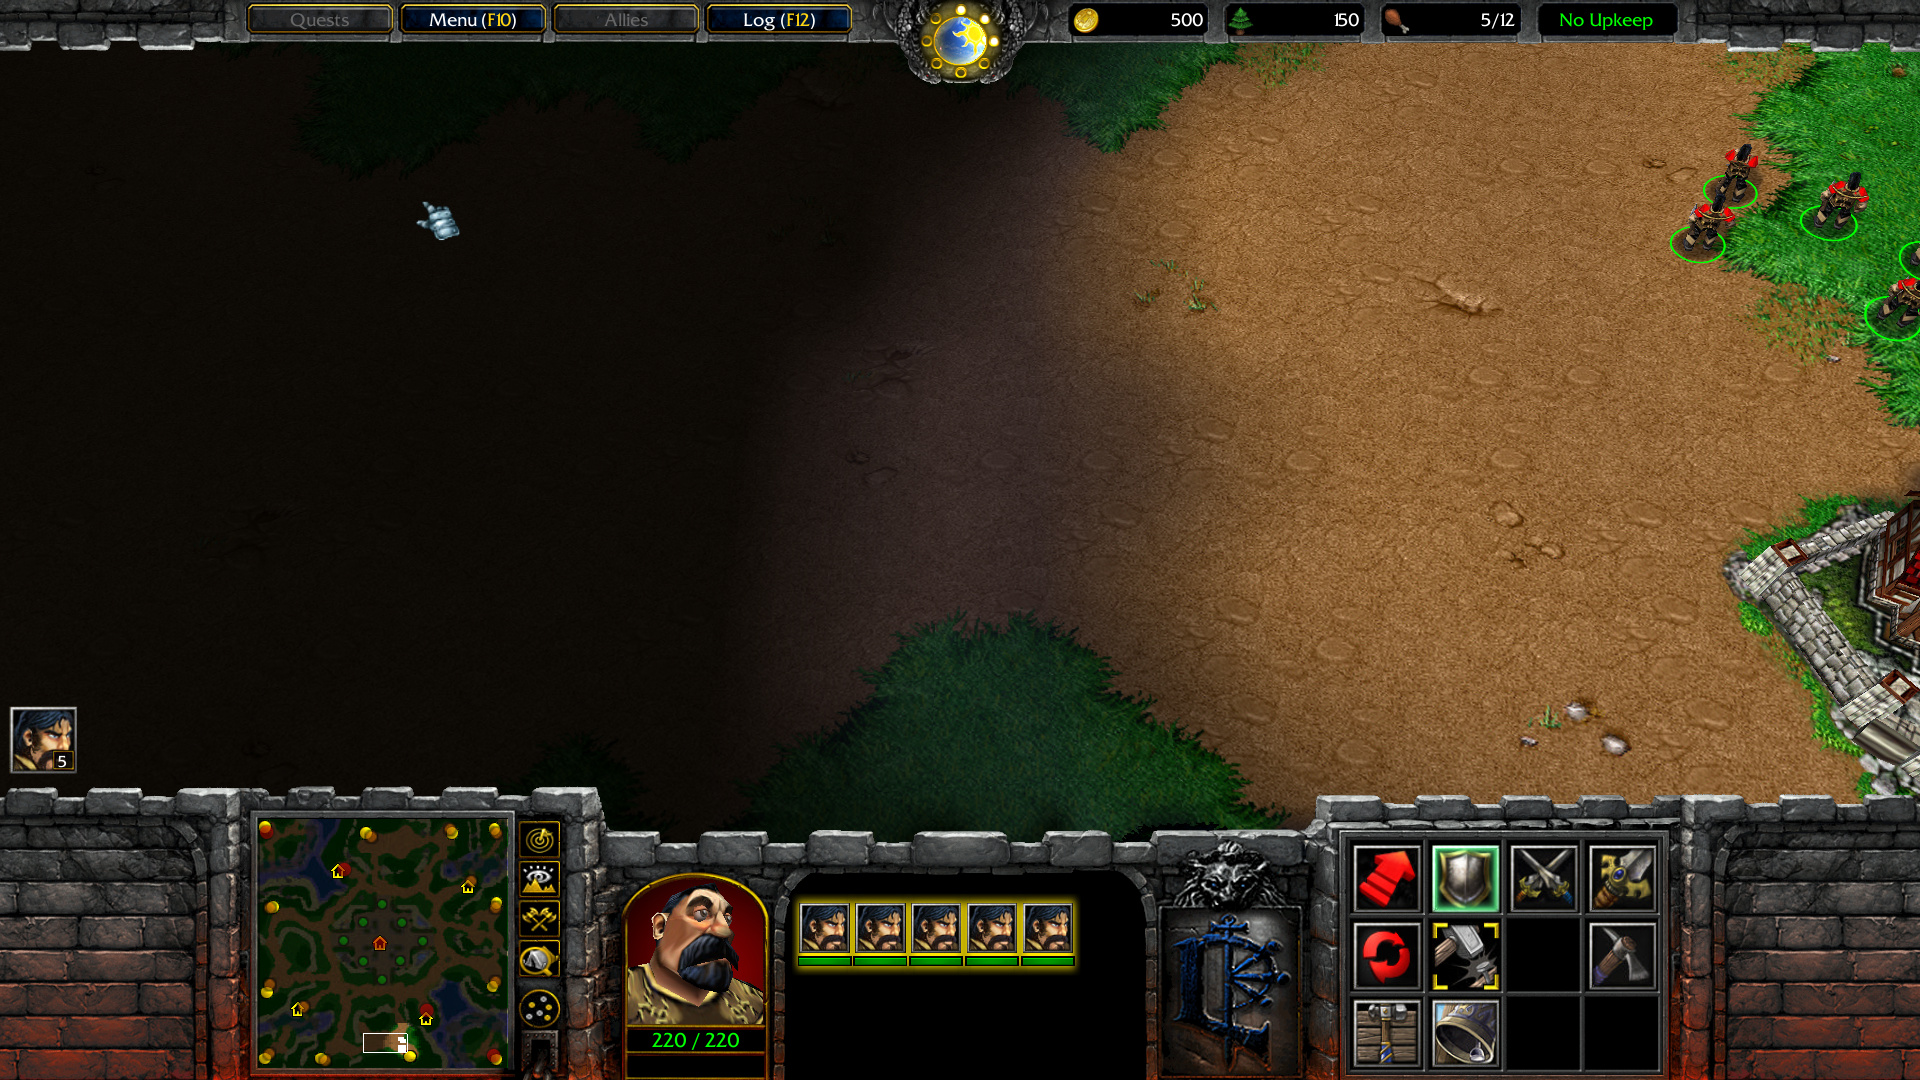Townhall: (1716, 474, 1920, 805)
